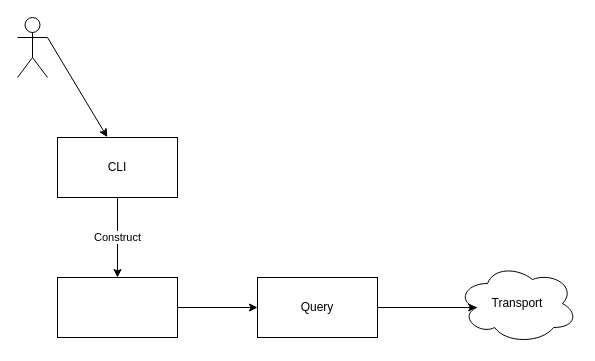
The diagram is 595 pixels wide and 361 high, and some of its shapes have lost their labels. Each missing label, with the box of its shape:
Route: (56, 276, 178, 338)
User: (16, 16, 48, 78)
